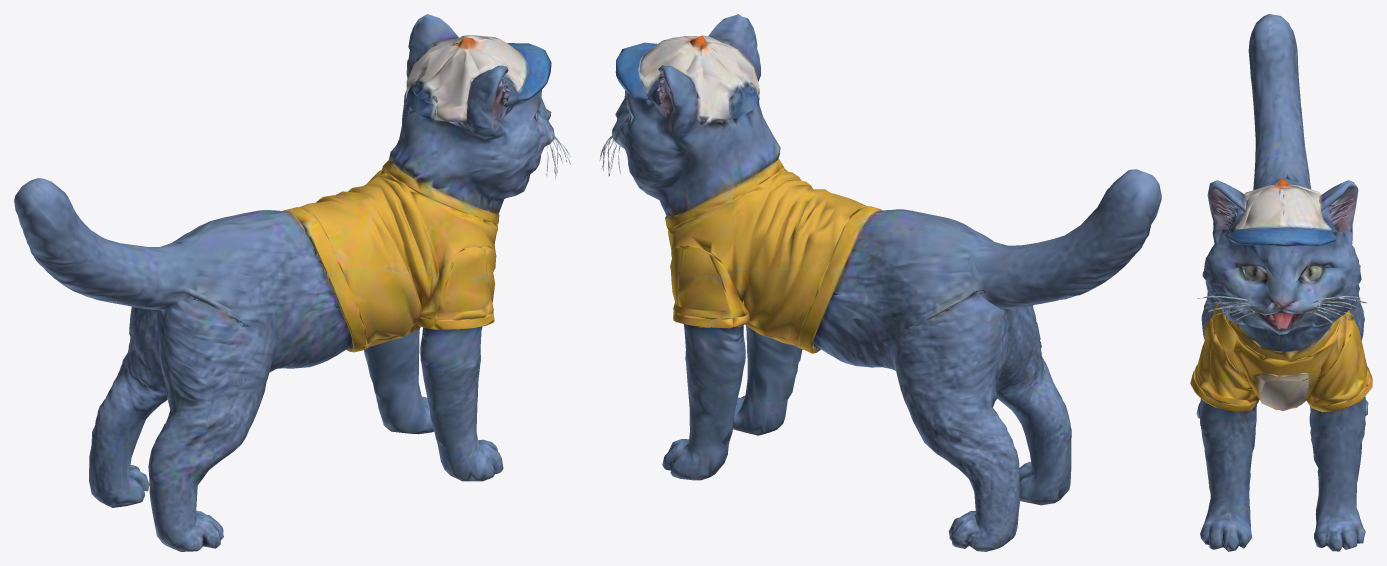
The model's file is COOLBLUE-lo.glb.
3 renders of one model, left to right at view 1: azimuth 30°, elevation 25°; view 2: azimuth 150°, elevation 25°; view 3: azimuth 270°, elevation 25°, orthographic. The views are drawn at different scales.
Parts seen in each view (by area): view 1: tripo_node_a90abf23-28dd-4ba5-aa91-ad6706fa4d85; view 2: tripo_node_a90abf23-28dd-4ba5-aa91-ad6706fa4d85; view 3: tripo_node_a90abf23-28dd-4ba5-aa91-ad6706fa4d85.
Part boxes in pixels (x1=…): tripo_node_a90abf23-28dd-4ba5-aa91-ad6706fa4d85: x1=14, y1=14, x2=570, y2=551; tripo_node_a90abf23-28dd-4ba5-aa91-ad6706fa4d85: x1=599, y1=14, x2=1161, y2=551; tripo_node_a90abf23-28dd-4ba5-aa91-ad6706fa4d85: x1=1190, y1=14, x2=1372, y2=551.
Size of the model in its own units: 1.37 by 0.9976 by 0.44.
Materials: 1 (1 with a texture image).
